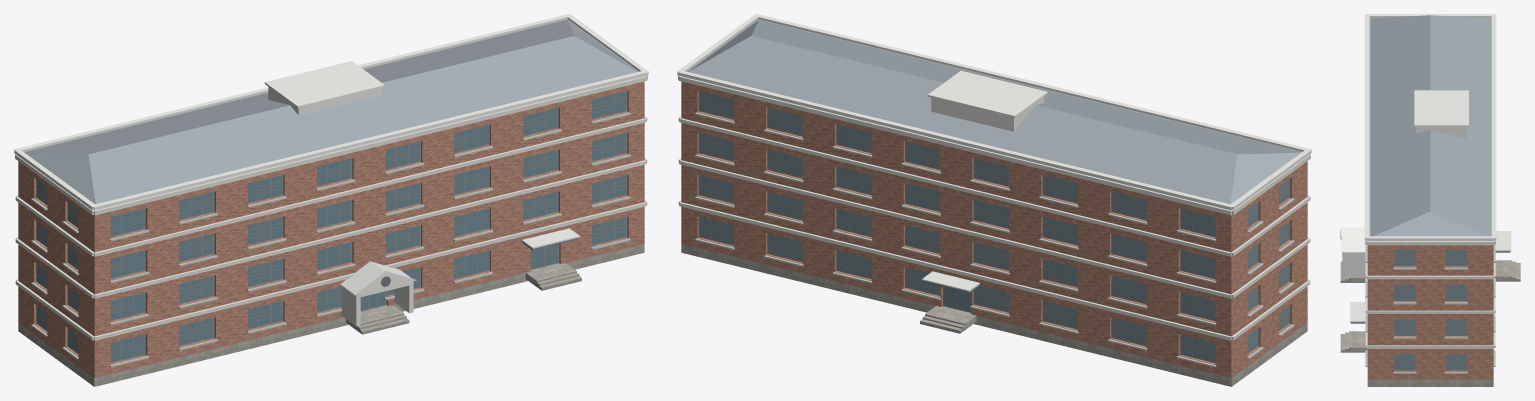
3 renders of one model, left to right at view 1: azimuth 30°, elevation 25°; view 2: azimuth 150°, elevation 25°; view 3: azimuth 270°, elevation 25°, orthographic. The views are drawn at different scales.
Parts seen in each view (by area): view 1: donggwan__warmbrick, donggwan__metalroof, donggwan__glass, donggwan__band, donggwan__cap, donggwan__frame, donggwan__stone, donggwan__sill, donggwan__panel, donggwan__sideglass, donggwan__stair-front, donggwan__stair-north-front; view 2: donggwan__warmbrick, donggwan__metalroof, donggwan__sideglass, donggwan__band, donggwan__cap, donggwan__frame, donggwan__stone, donggwan__sill, donggwan__panel, donggwan__stair-east-rear, donggwan__glass; view 3: donggwan__metalroof, donggwan__warmbrick, donggwan__cap, donggwan__sideglass, donggwan__band, donggwan__panel, donggwan__frame, donggwan__stone, donggwan__sill, donggwan__threshold-north-front, donggwan__threshold-east-rear, donggwan__stair-east-rear (+1 smaller).
Boxes of the visible parts, x1,y1,x2,y2 form: donggwan__warmbrick: (18, 81, 644, 377); donggwan__metalroof: (24, 19, 638, 204); donggwan__glass: (110, 91, 626, 361); donggwan__band: (15, 75, 647, 340); donggwan__cap: (14, 14, 648, 295); donggwan__frame: (36, 91, 627, 362); donggwan__stone: (18, 244, 644, 386); donggwan__sill: (31, 112, 630, 367); donggwan__panel: (268, 87, 413, 326); donggwan__sideglass: (37, 180, 78, 352); donggwan__stair-front: (355, 311, 409, 334); donggwan__stair-north-front: (534, 269, 581, 290); donggwan__warmbrick: (681, 81, 1307, 377); donggwan__metalroof: (687, 19, 1301, 204); donggwan__sideglass: (699, 91, 1288, 361); donggwan__band: (678, 75, 1310, 340); donggwan__cap: (677, 14, 1311, 291); donggwan__frame: (698, 91, 1289, 362); donggwan__stone: (681, 244, 1307, 386); donggwan__sill: (695, 112, 1294, 367); donggwan__panel: (931, 97, 1044, 131); donggwan__stair-east-rear: (920, 312, 967, 333); donggwan__glass: (943, 287, 971, 311); donggwan__metalroof: (1369, 15, 1491, 236); donggwan__warmbrick: (1367, 245, 1493, 379); donggwan__cap: (1340, 14, 1511, 322); donggwan__sideglass: (1394, 250, 1466, 369); donggwan__band: (1365, 240, 1495, 348); donggwan__panel: (1342, 127, 1466, 277); donggwan__frame: (1394, 250, 1467, 370); donggwan__stone: (1367, 379, 1493, 386); donggwan__sill: (1365, 245, 1495, 373); donggwan__threshold-north-front: (1353, 331, 1367, 352); donggwan__threshold-east-rear: (1495, 260, 1507, 281); donggwan__stair-east-rear: (1508, 260, 1520, 281).
Bounding box in the file's own units: 48.54 × 16.96 × 16.46.
13 materials, 2 textured.
